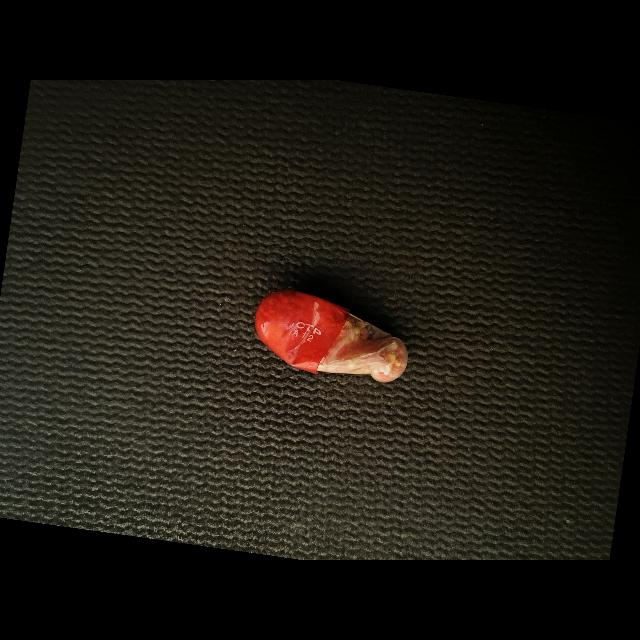Defective Capsule: (255, 290, 408, 382)
